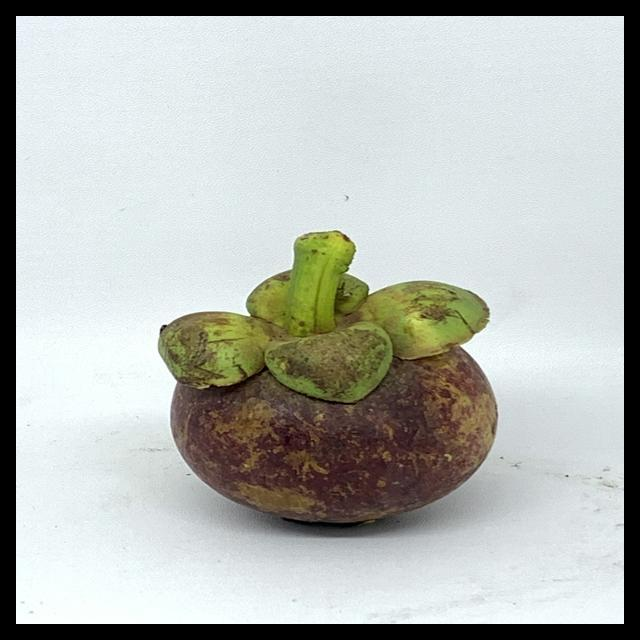mangosteen: (157, 219, 519, 532)
